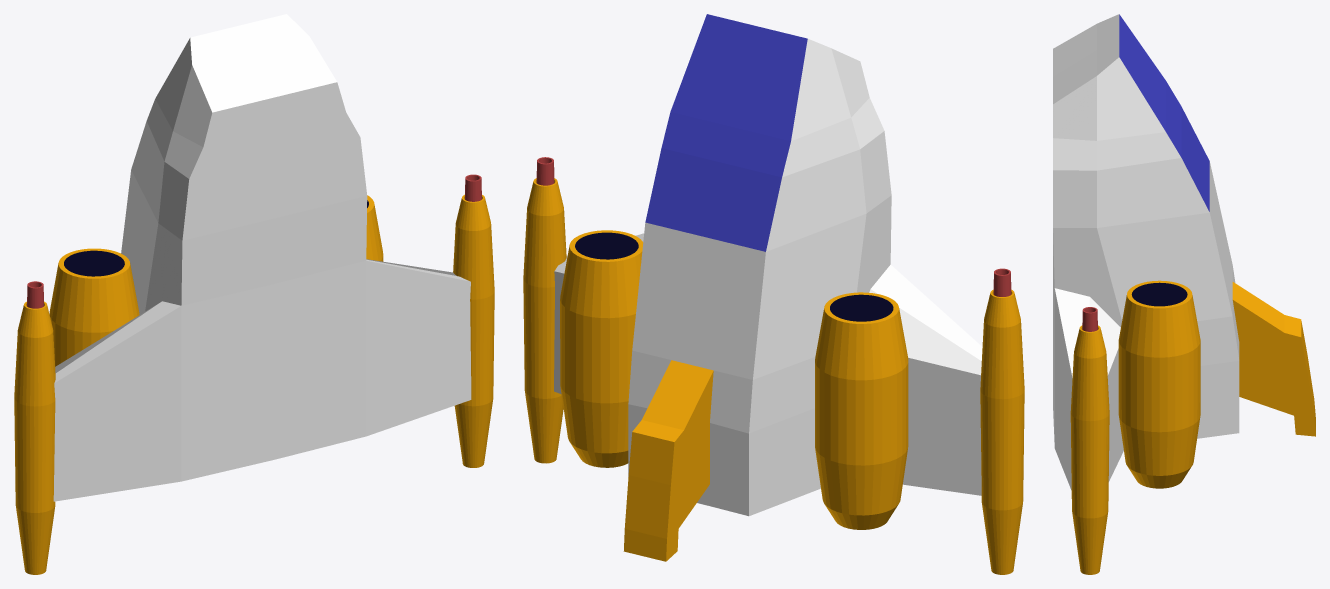
File: spaceship_import.fbx
3 renders of one model, left to right at view 1: azimuth 30°, elevation 25°; view 2: azimuth 150°, elevation 25°; view 3: azimuth 270°, elevation 25°, orthographic. The views are drawn at different scales.
Parts seen in each view (by area): view 1: spaceship; view 2: spaceship; view 3: spaceship.
Boxes of the visible parts, x1,y1,x2,y2 form: spaceship: [14, 14, 494, 574]; spaceship: [523, 14, 1024, 574]; spaceship: [1053, 14, 1315, 574].
Size of the model in its own units: 96726 by 93349 by 50811.
